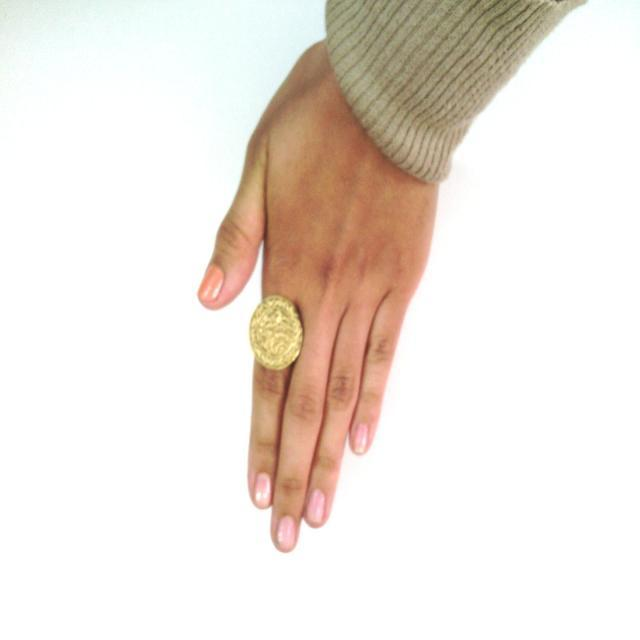Fingernail: (200, 266, 223, 301), (305, 490, 325, 526), (278, 516, 296, 549), (255, 473, 271, 506), (352, 425, 368, 453)
